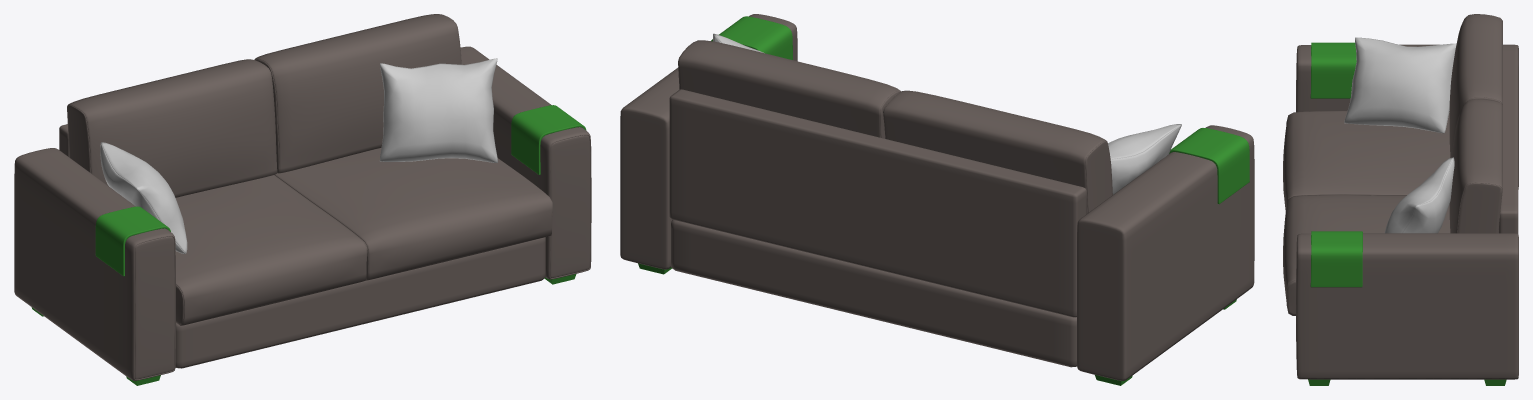
File: Sofa.fbx
3 views of the same model, side by side, from view 1: azimuth 30°, elevation 25°; view 2: azimuth 150°, elevation 25°; view 3: azimuth 270°, elevation 25° (orthographic). The views are drawn at different scales.
Visible parts, largest first — view 1: Pillow Big_Bottom, Pillow Big_Back, Sidewalls, Frame_bottom, pillow_01, Onlay_wood, pillow_02; view 2: Back cover, Sidewalls, Pillow Big_Back, Frame_bottom, Onlay_wood, pillow_02; view 3: Sidewalls, Pillow Big_Bottom, Pillow Big_Back, pillow_02, Onlay_wood, Back cover, pillow_01, Feet.
Boxes of the visible parts, bbox=[...] form: Pillow Big_Bottom: bbox=[175, 147, 552, 325]; Pillow Big_Back: bbox=[67, 14, 461, 197]; Sidewalls: bbox=[14, 46, 591, 380]; Frame_bottom: bbox=[175, 237, 545, 368]; pillow_01: bbox=[379, 58, 497, 162]; Onlay_wood: bbox=[95, 105, 586, 276]; pillow_02: bbox=[100, 142, 187, 253]; Back cover: bbox=[669, 89, 1086, 317]; Sidewalls: bbox=[620, 14, 1254, 380]; Pillow Big_Back: bbox=[678, 40, 1112, 213]; Frame_bottom: bbox=[671, 219, 1076, 367]; Onlay_wood: bbox=[711, 16, 1249, 204]; pillow_02: bbox=[1108, 124, 1181, 194]; Sidewalls: bbox=[1296, 44, 1518, 379]; Pillow Big_Bottom: bbox=[1283, 111, 1498, 315]; Pillow Big_Back: bbox=[1449, 14, 1502, 233]; pillow_02: bbox=[1344, 37, 1456, 133]; Onlay_wood: bbox=[1310, 42, 1362, 287]; Back cover: bbox=[1499, 45, 1518, 233]; pillow_01: bbox=[1384, 157, 1454, 233]; Feet: bbox=[1308, 379, 1506, 385].
Bounding box in the file's own units: 2076 × 878 × 982.
